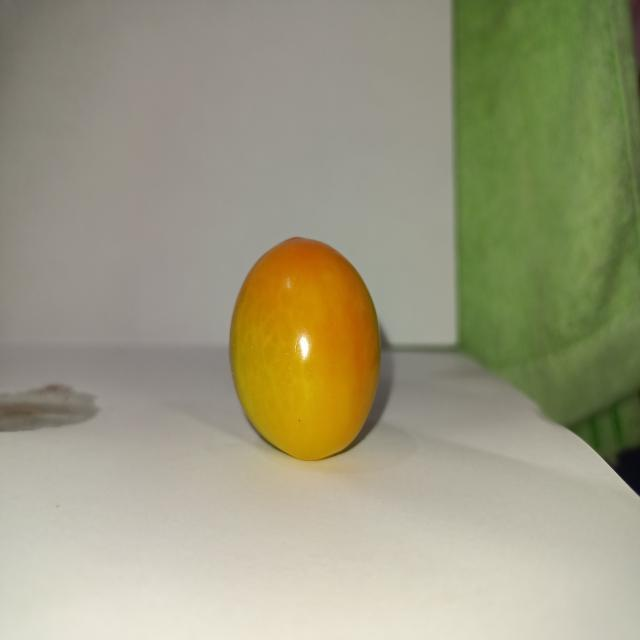Red: (227, 235, 382, 461)
